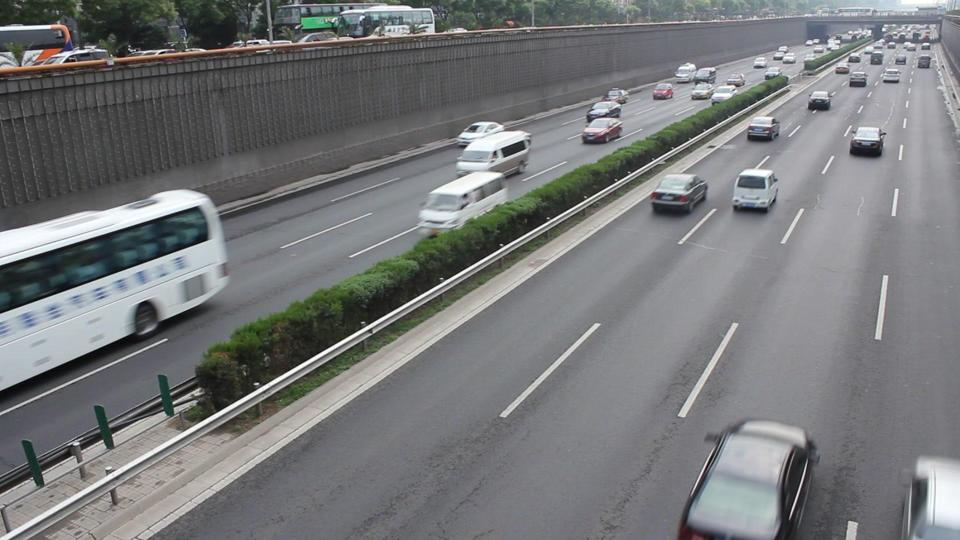bus: (1, 189, 233, 391), (321, 5, 437, 40), (1, 24, 74, 59)
car: (677, 417, 816, 540), (417, 171, 510, 233), (905, 455, 959, 540), (455, 130, 533, 178), (649, 174, 710, 214), (731, 168, 781, 211), (31, 48, 114, 65), (456, 121, 504, 146), (848, 126, 886, 157), (580, 118, 624, 144), (748, 116, 781, 141), (586, 101, 623, 121), (710, 85, 738, 105), (808, 90, 834, 111), (690, 82, 716, 100), (652, 82, 674, 100), (606, 84, 627, 101), (848, 71, 867, 87), (882, 68, 901, 83), (917, 55, 932, 69), (753, 56, 769, 69), (835, 65, 848, 74)
